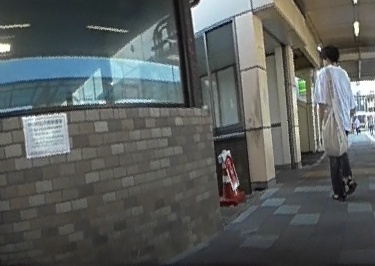person: (311, 44, 356, 200), (364, 114, 375, 133)
